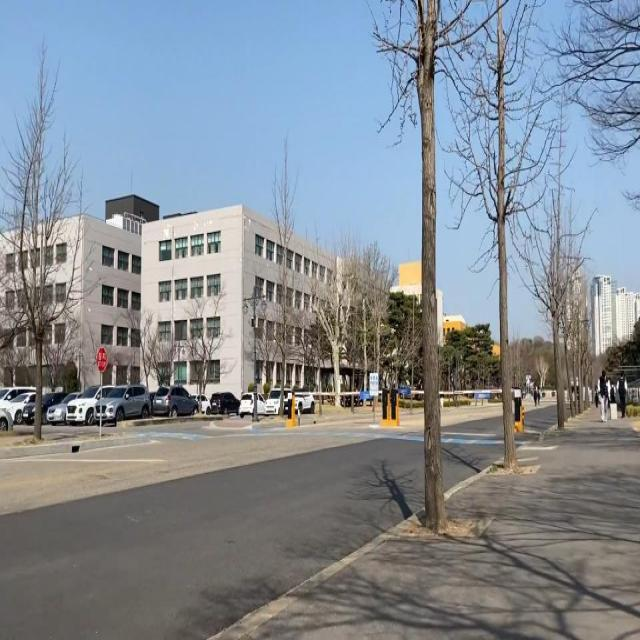sidewalk: (204, 403, 640, 640)
